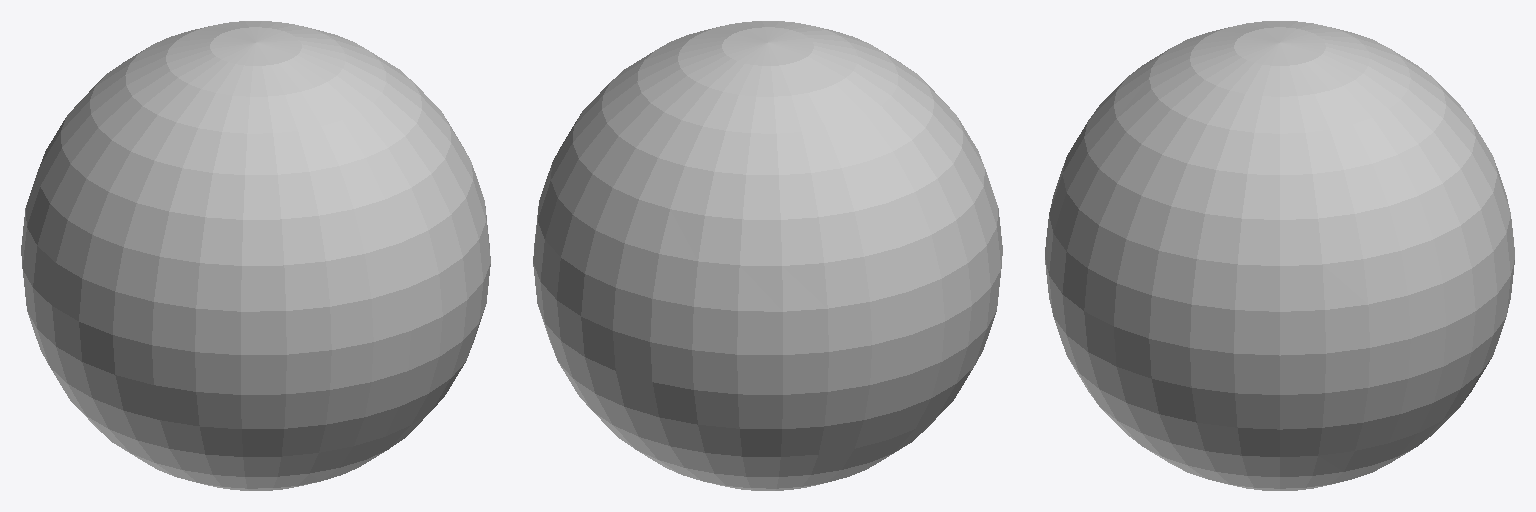
File: joint.obj
The picture shows the model from 3 angles: view 1: azimuth 30°, elevation 25°; view 2: azimuth 150°, elevation 25°; view 3: azimuth 270°, elevation 25°; orthographic projection.
Parts seen in each view (by area): view 1: 球体; view 2: 球体; view 3: 球体.
Part boxes in pixels (x1,y1,x2,y2): 球体: (21,21,490,490); 球体: (533,21,1002,490); 球体: (1045,21,1514,490).
Bounding box in the file's own units: 0.04 × 0.04 × 0.04.